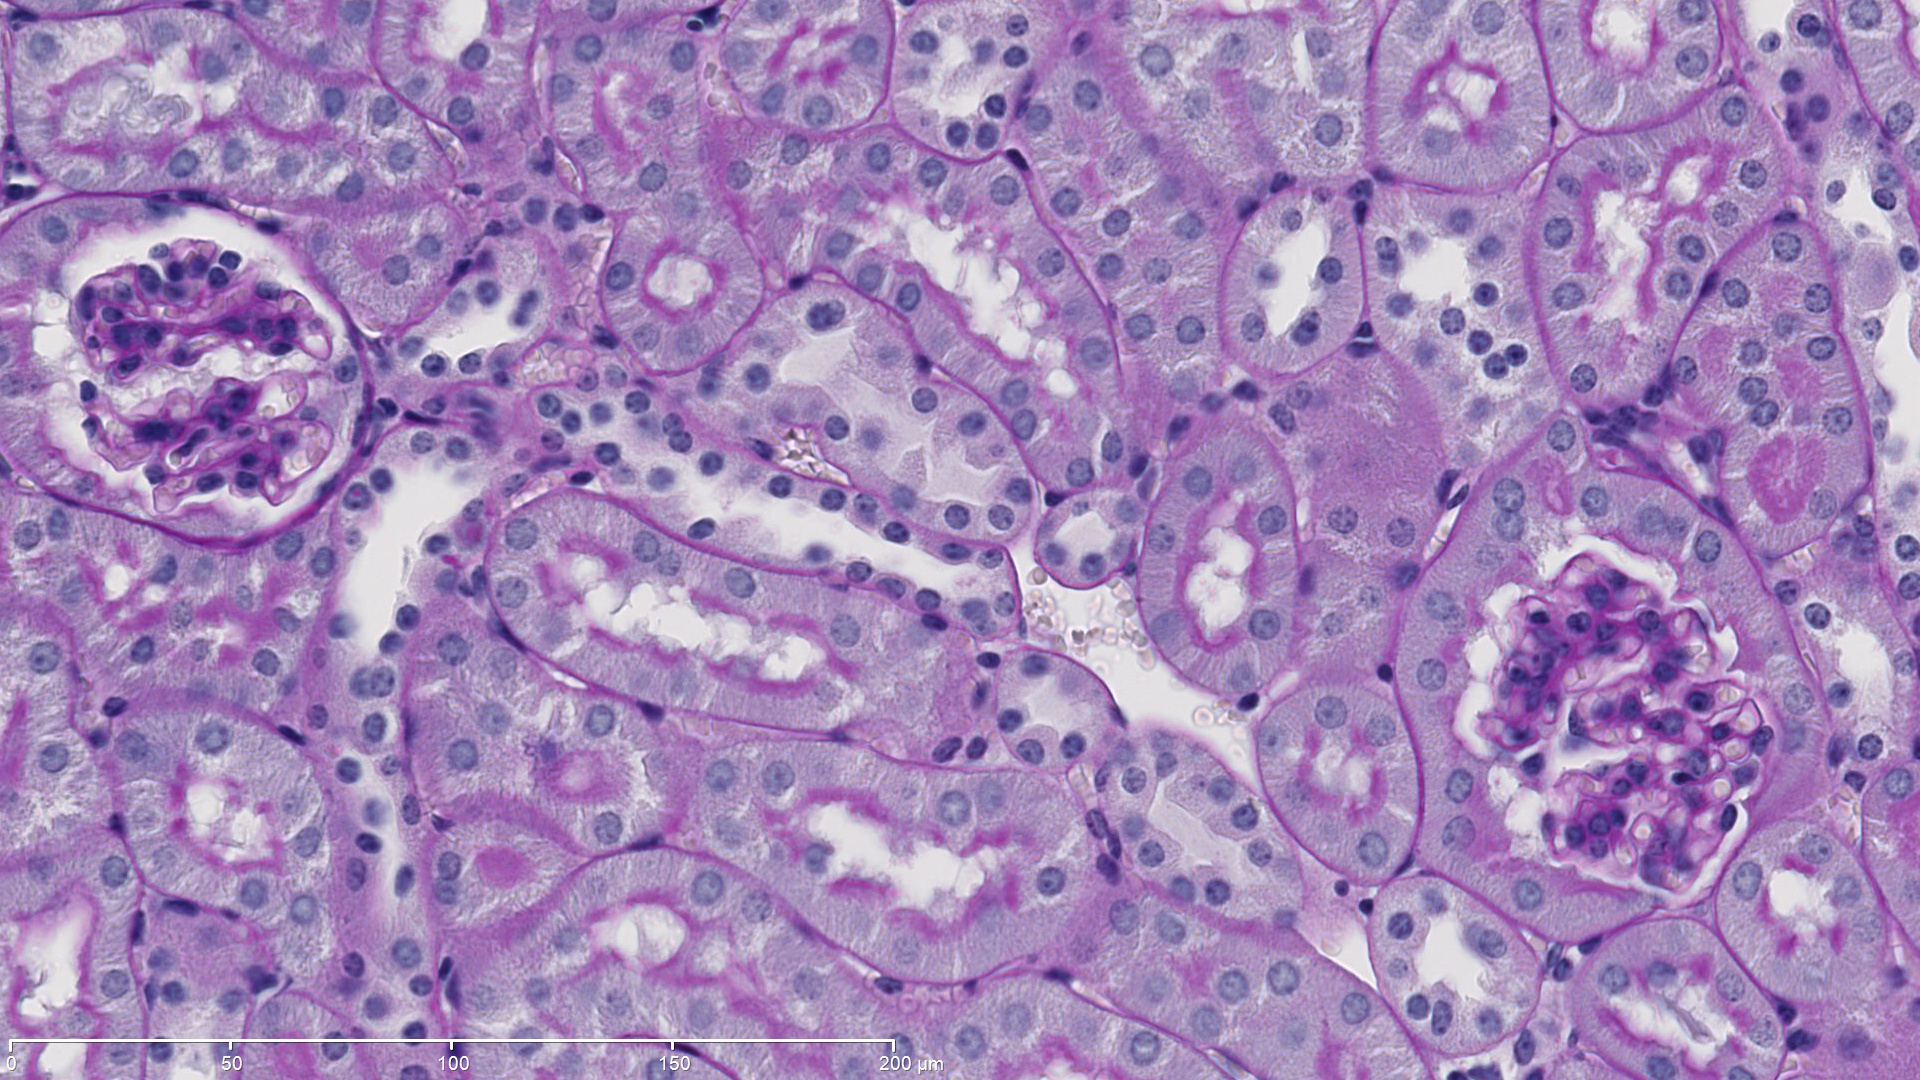Glomeruli: (1452, 533, 1785, 909), (67, 231, 353, 527)
